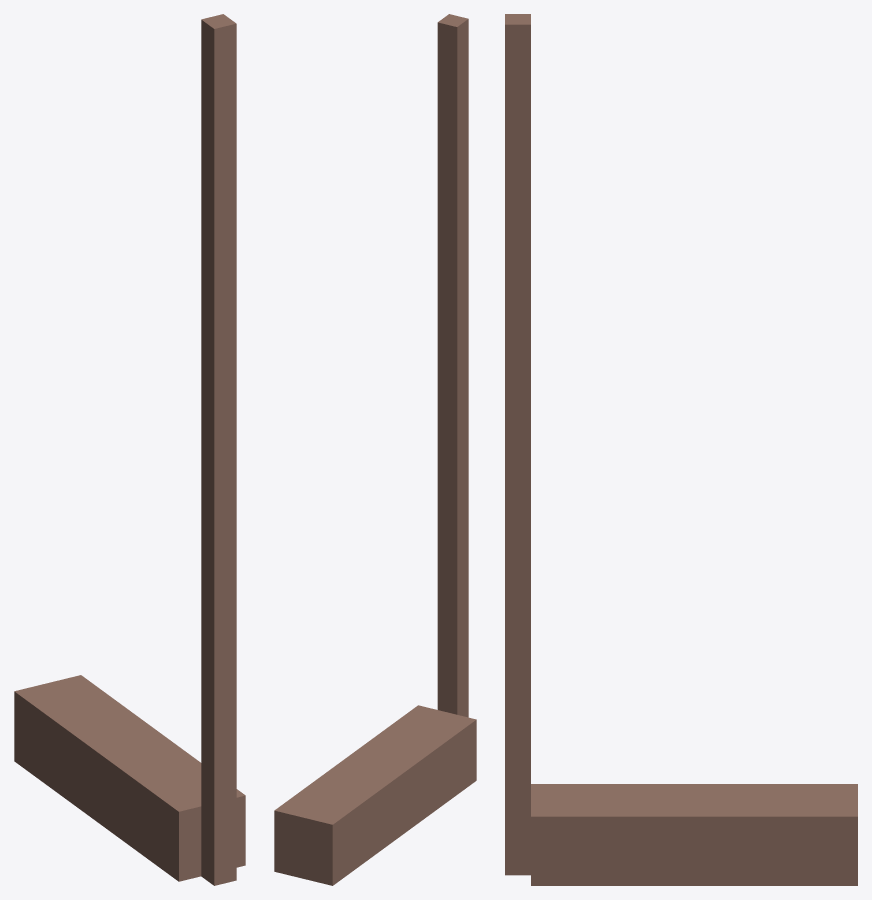
File: high-platform1.dae
3 views of the same model, side by side, from view 1: azimuth 30°, elevation 25°; view 2: azimuth 150°, elevation 25°; view 3: azimuth 270°, elevation 25° (orthographic). The views are drawn at different scales.
Visible parts, largest first — view 1: Cube; view 2: Cube; view 3: Cube.
Part boxes in pixels (box(x1,y1,x2,y2)): Cube: box(14, 14, 245, 885); Cube: box(274, 14, 476, 885); Cube: box(505, 14, 857, 885).
Size of the model in its own units: 6 by 27.62 by 73.45.
